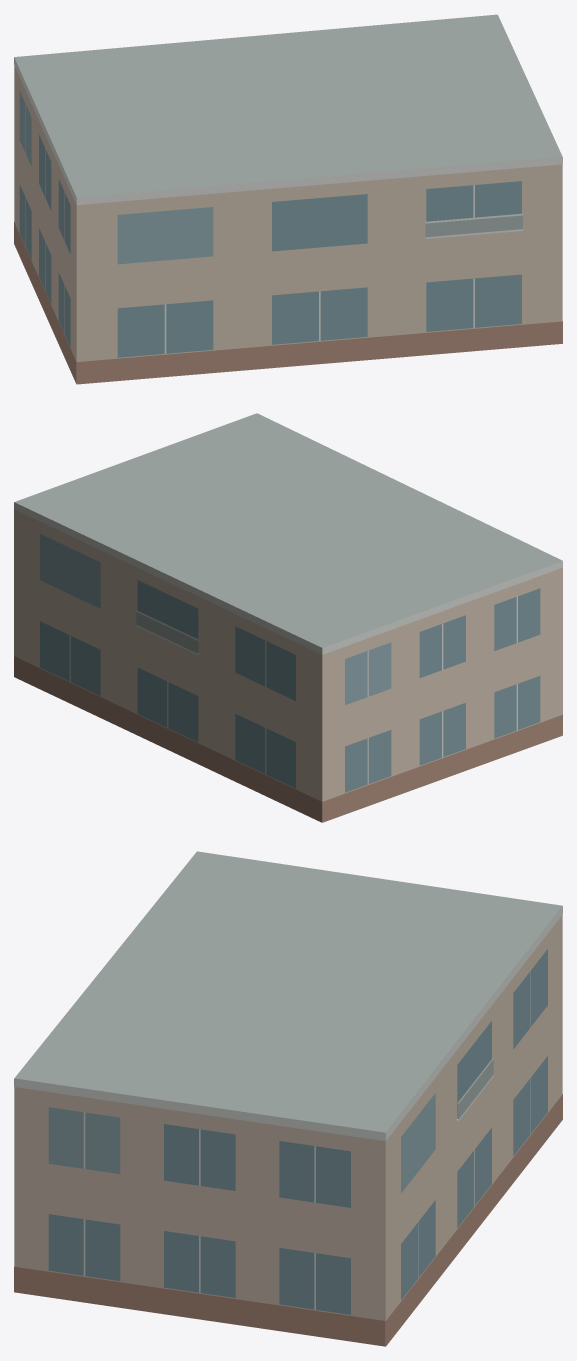
The model's file is survey-upis-32577705.glb.
3 views of the same model, one above another, from view 1: azimuth 30°, elevation 25°; view 2: azimuth 150°, elevation 25°; view 3: azimuth 270°, elevation 25° (orthographic). The views are drawn at different scales.
Visible parts, largest first — view 1: survey-upis-32577705.tmp; view 2: survey-upis-32577705.tmp; view 3: survey-upis-32577705.tmp.
Part boxes in pixels (x1,y1,x2,y2): survey-upis-32577705.tmp: (14,14,562,384); survey-upis-32577705.tmp: (14,413,562,822); survey-upis-32577705.tmp: (14,851,562,1346).
Size of the model in its own units: 17.22 by 6.1 by 14.19.
